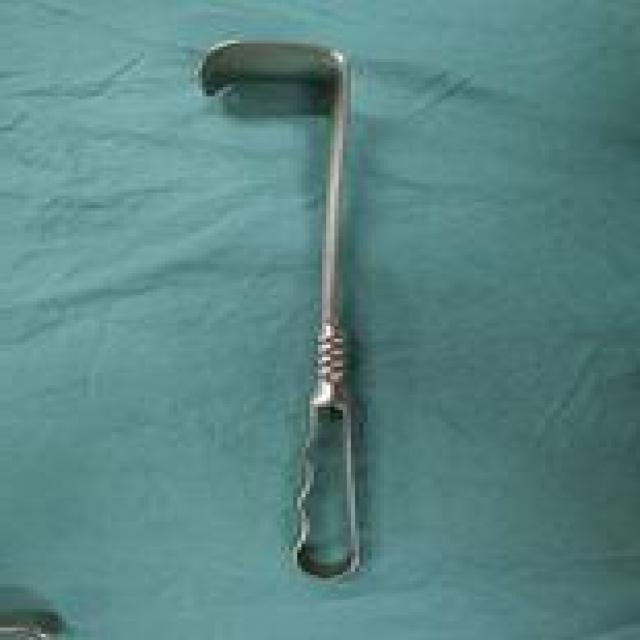Richardson: (194, 31, 368, 584)
